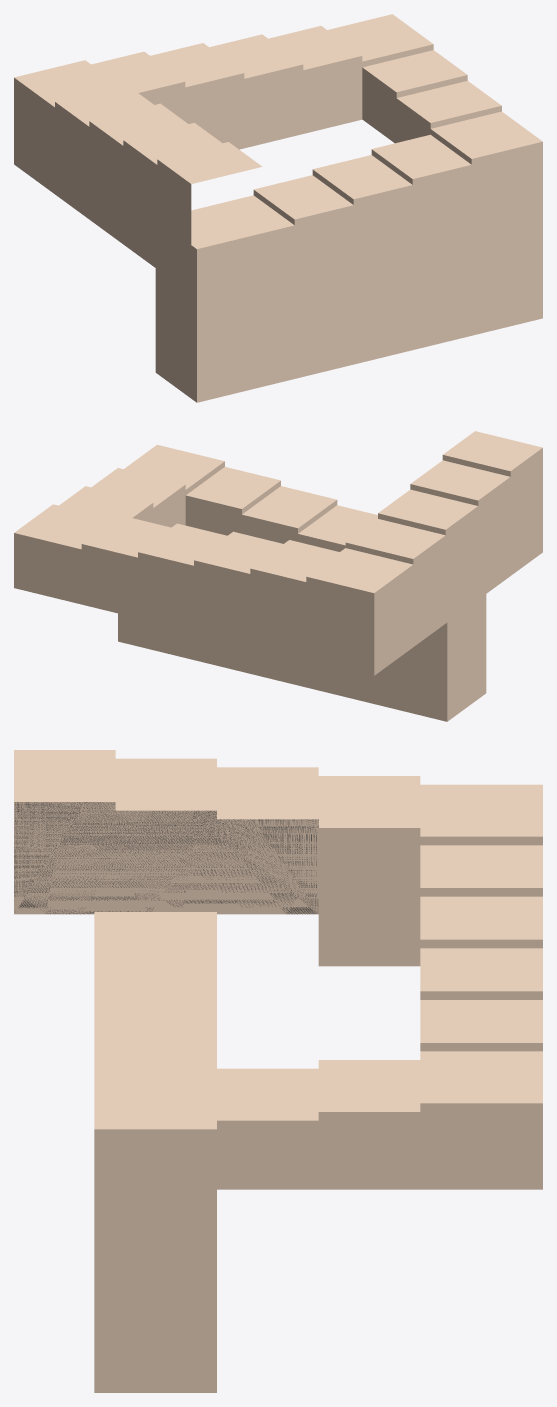
File: Abstract_Castle_PenroseStairs3D_ParProjDiag_02.fbx
3 views of the same model, one above another, from view 1: azimuth 30°, elevation 25°; view 2: azimuth 150°, elevation 25°; view 3: azimuth 270°, elevation 25° (orthographic). The views are drawn at different scales.
Parts seen in each view (by area): view 1: Model; view 2: Model; view 3: Model.
Boxes of the visible parts, x1,y1,x2,y2 form: Model: (14,14,542,402); Model: (14,431,542,721); Model: (14,750,542,1392).
Bounding box in the file's own units: 5311 × 3303 × 4311.
